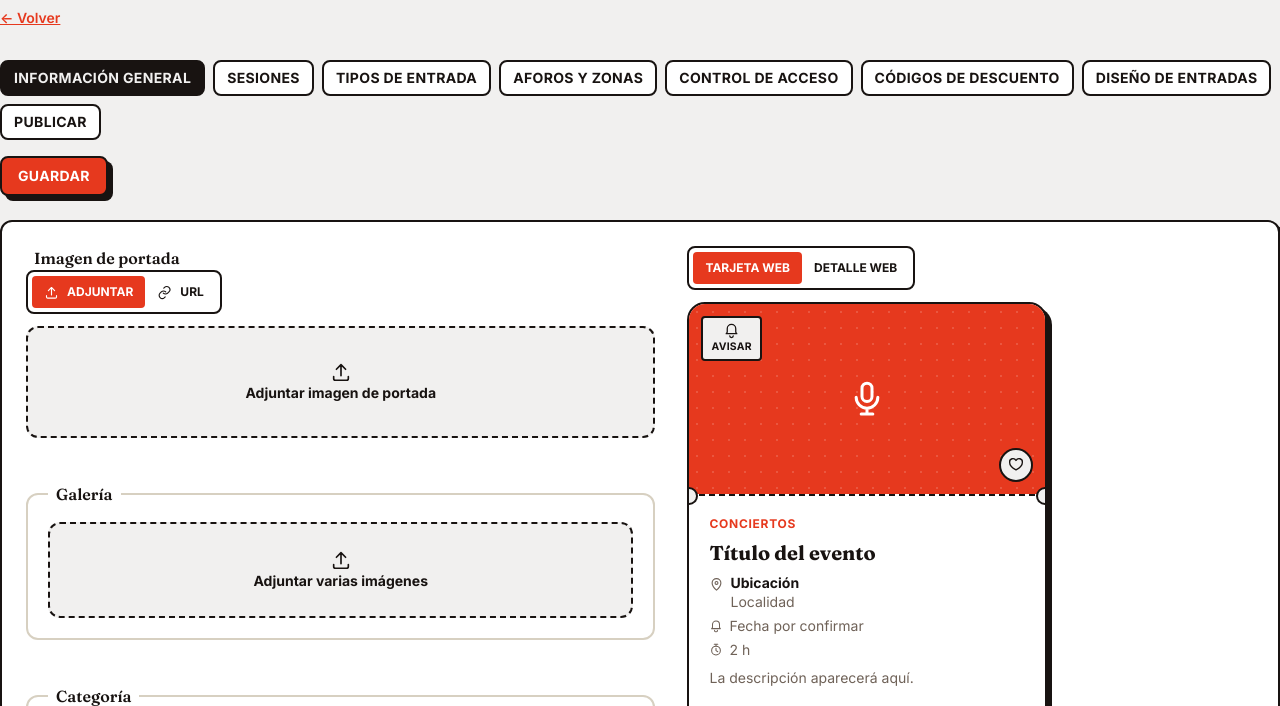
Test case: EventDetailPage: Guardar al lado de las secciones › con campos obligatorios vacios avisa de lo que falta y no guarda
This screenshot has width=1280, height=706.
Click the button "Guardar" at coordinates (54, 176), box 0,156 -> 108,196
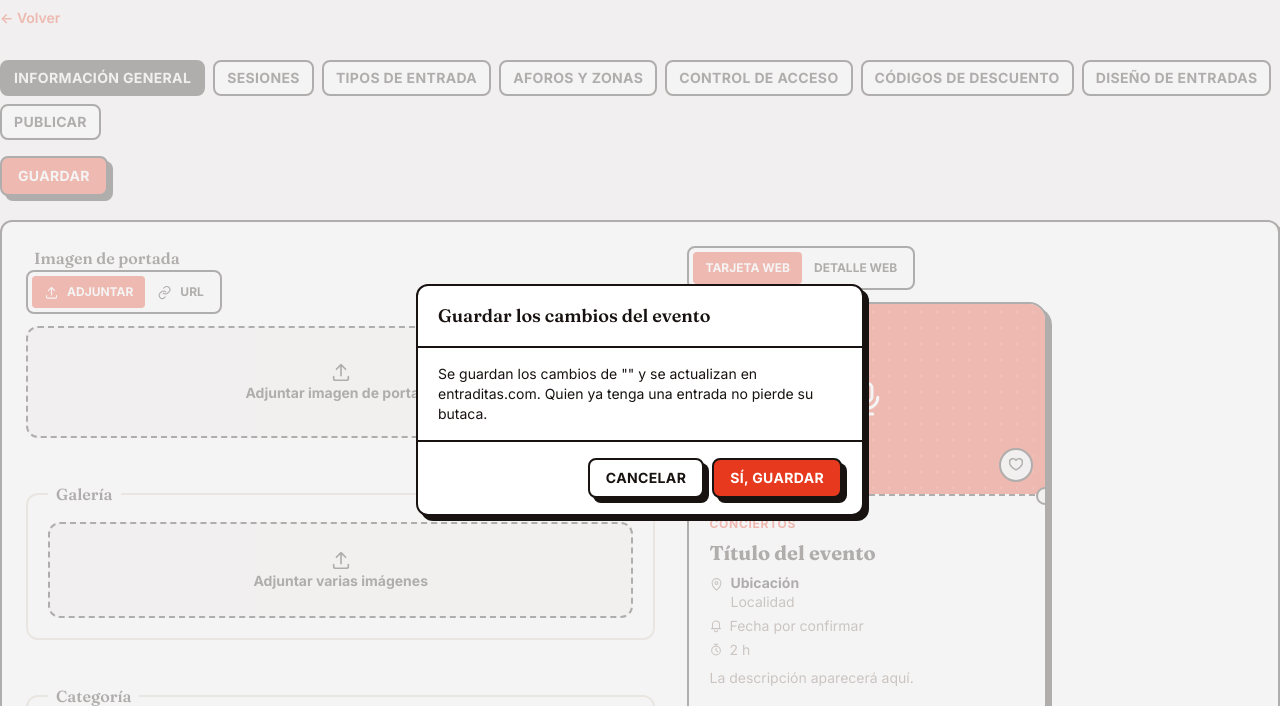
Click the button "Sí, guardar" at coordinates (777, 478), box 712,458 -> 842,498
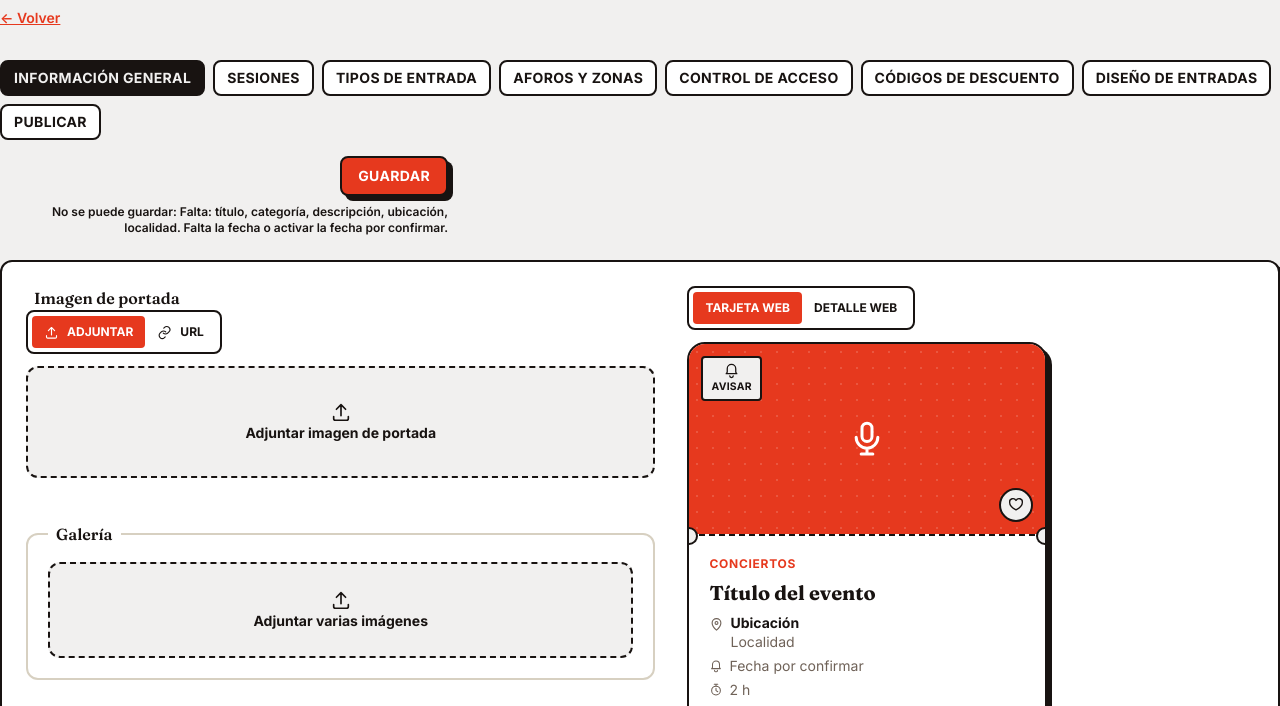
Now the message shows "No se puede guardar", box 52,204 -> 448,235
Now the message shows "título", box 52,204 -> 448,235
Now the message shows "localidad", box 52,204 -> 448,235
